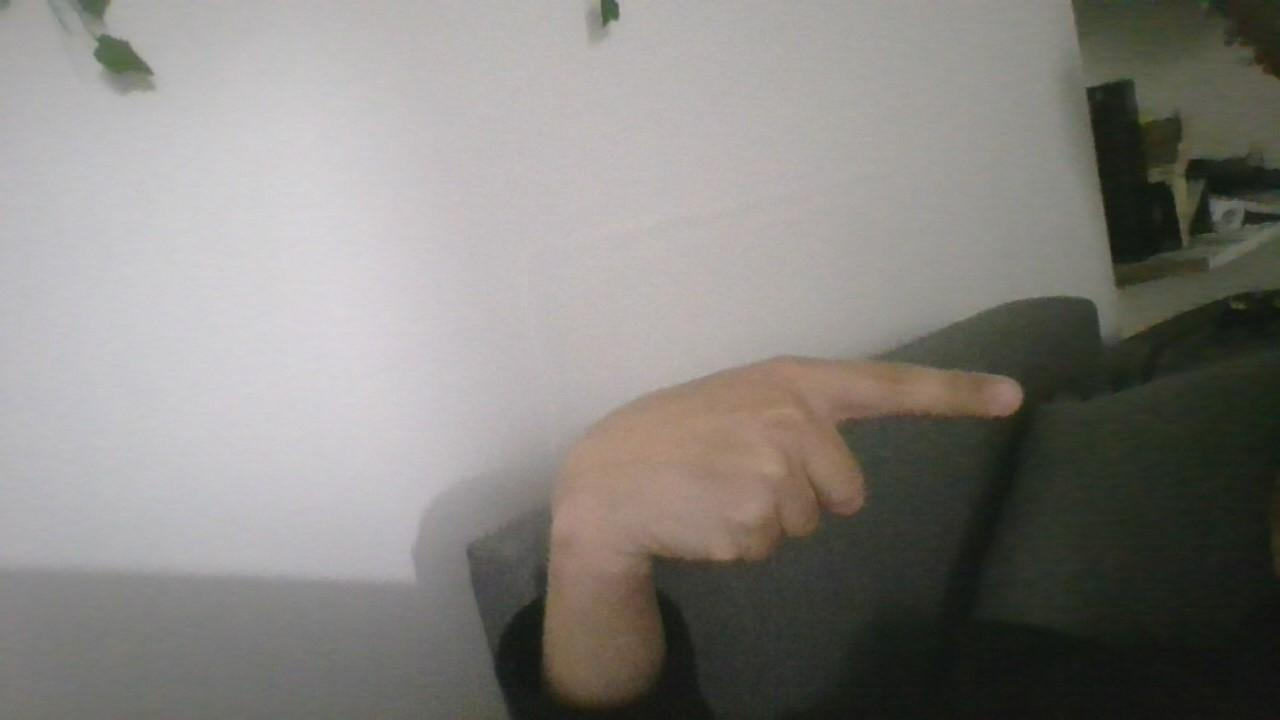right: (529, 325, 1034, 589)
